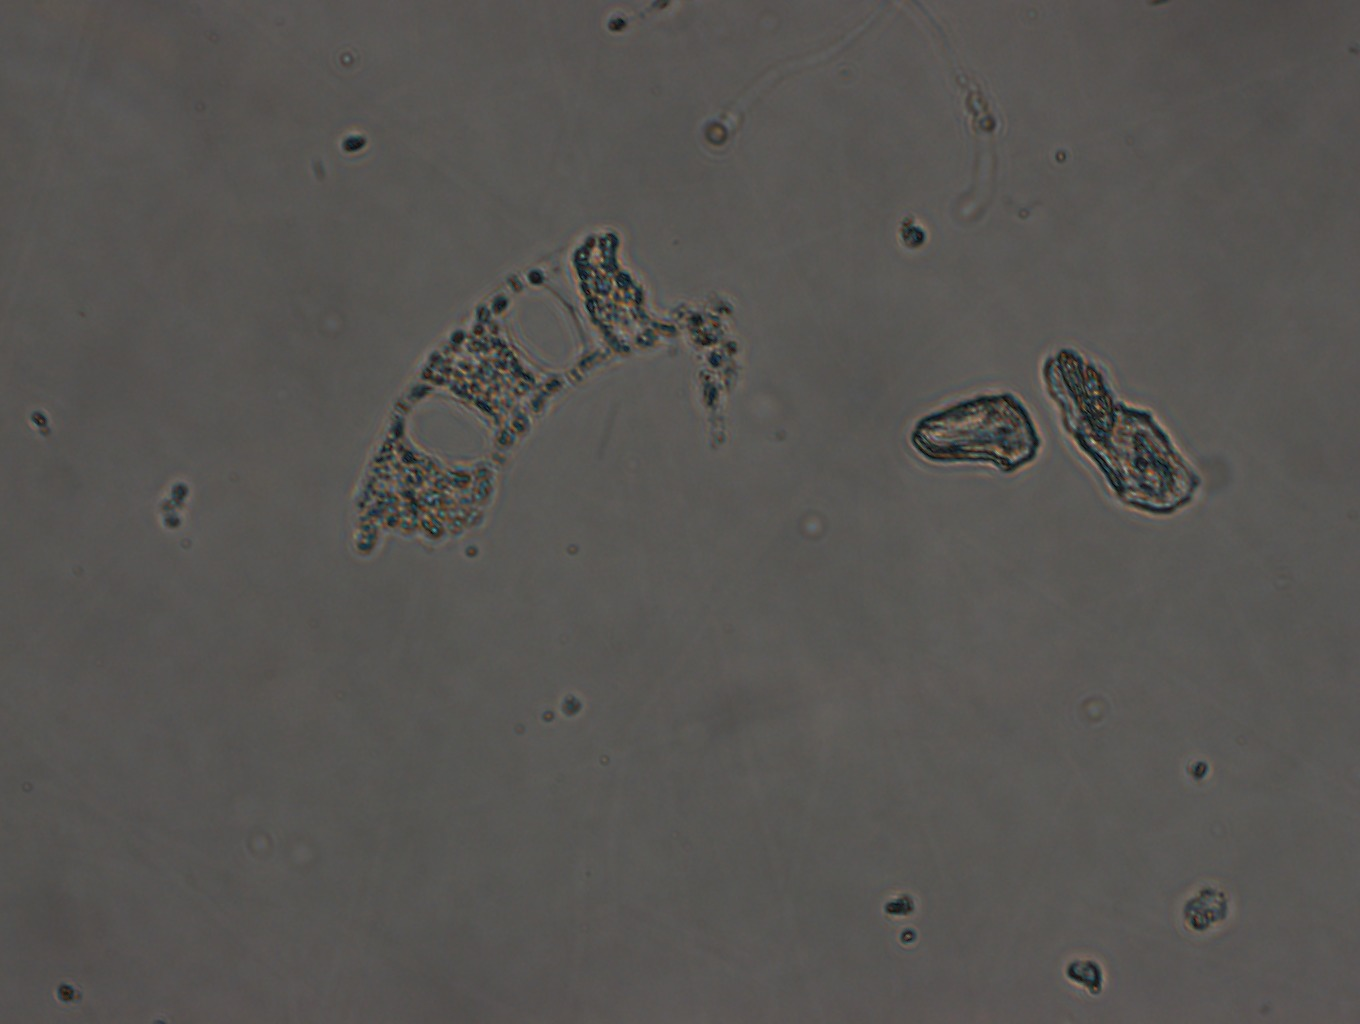eucampia: (348, 231, 674, 547)
